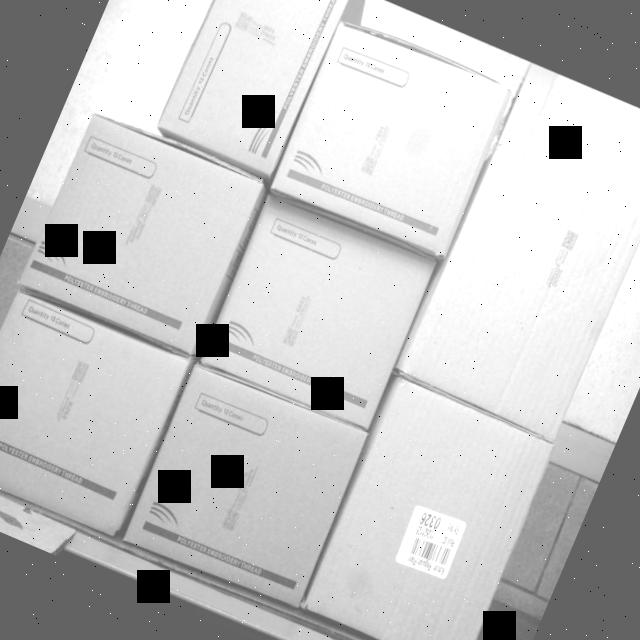box: (397, 145, 640, 434), (300, 375, 558, 640), (114, 360, 372, 616), (20, 109, 264, 356), (196, 190, 438, 434), (270, 23, 512, 256), (0, 285, 193, 546), (155, 0, 349, 178)
